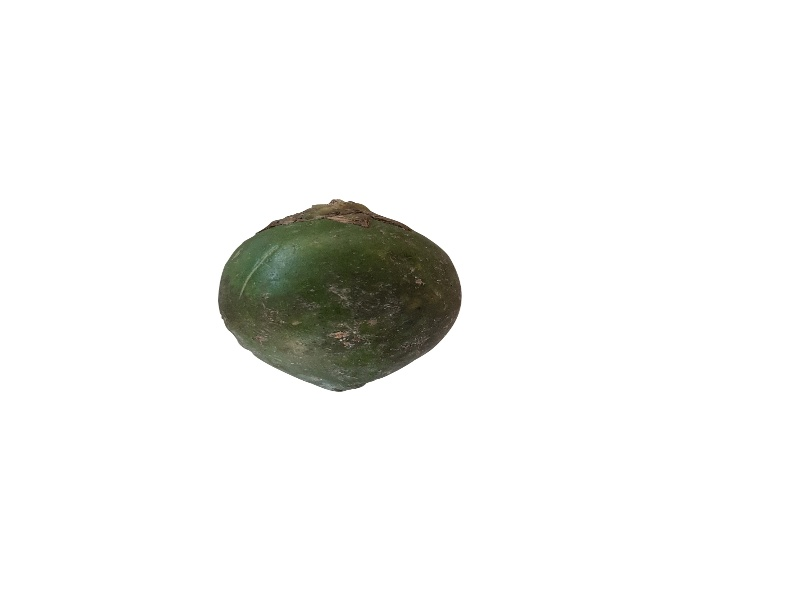arecanut: (207, 191, 484, 404)
